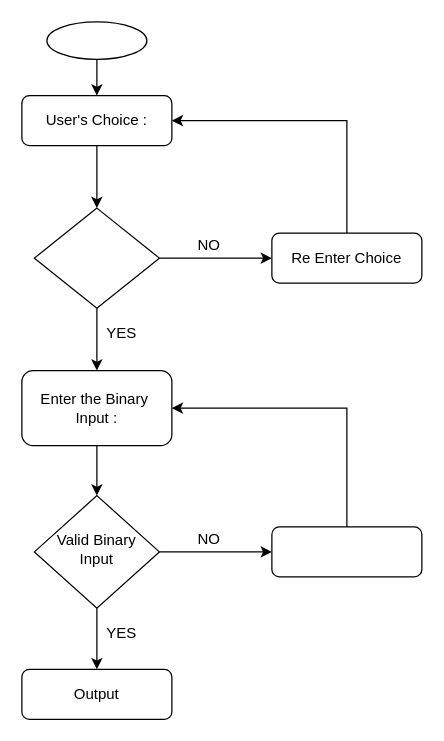
Some shapes in this 444 by 741 pixel diagram are drawn without their labels. Each missing label, with the box of its shape:
Choice is Valid: (33, 207, 159, 308)
Re Enter Binary input: (271, 526, 422, 577)
Start: (46, 21, 147, 59)
